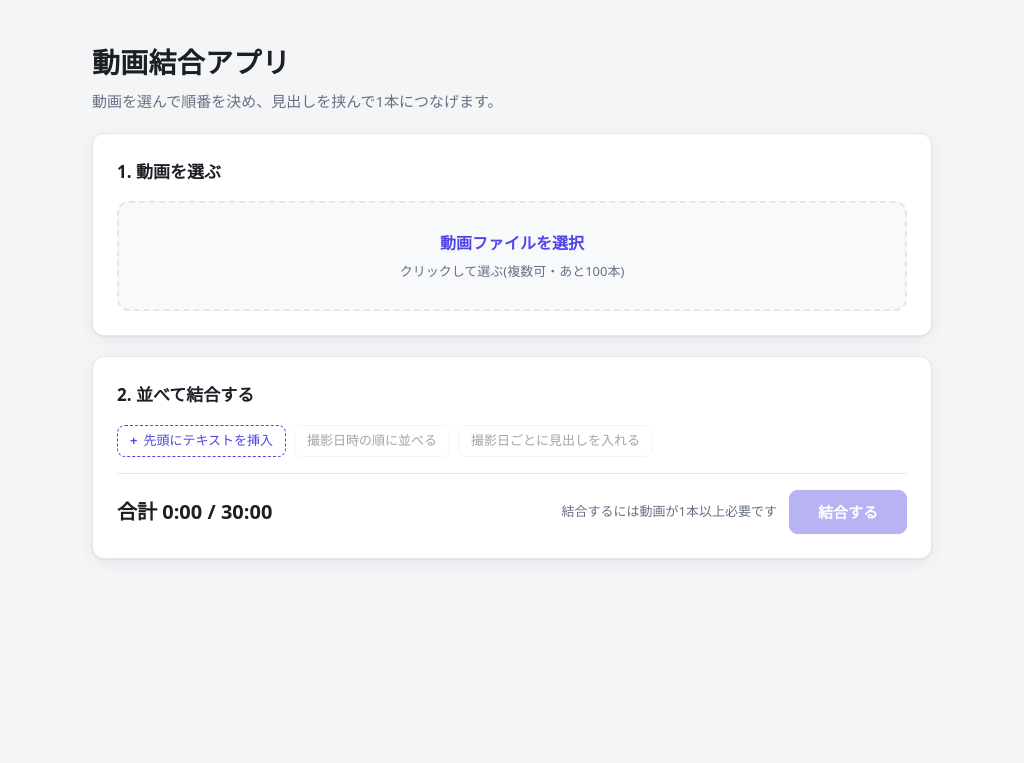
Test: テキストの場面だけ(動画0本)のときは結合ボタンが押せず「結合するには動画が1本以上必要です」と表示される
Click the button "先頭にテキストを挿入" at x=202, y=441, box [117,425,286,457]
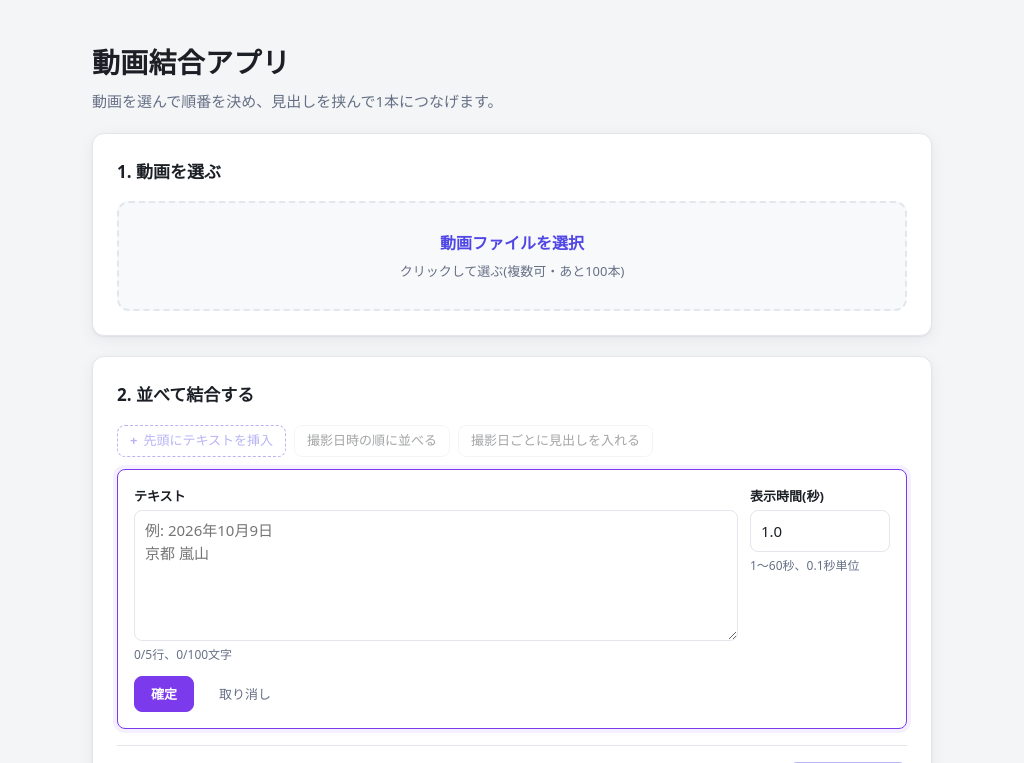
Type "見出し" into the text box labelled "テキスト" at x=436, y=576, box [134,510,738,641]
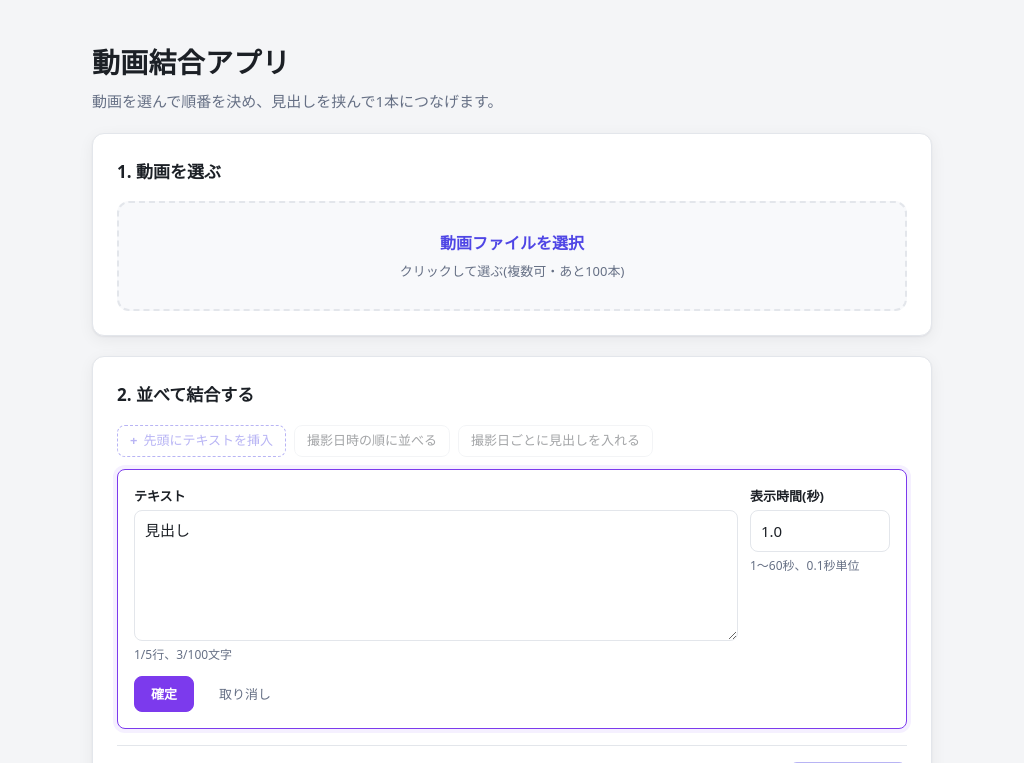
Click the button "確定" at x=164, y=694, box [134,676,194,712]
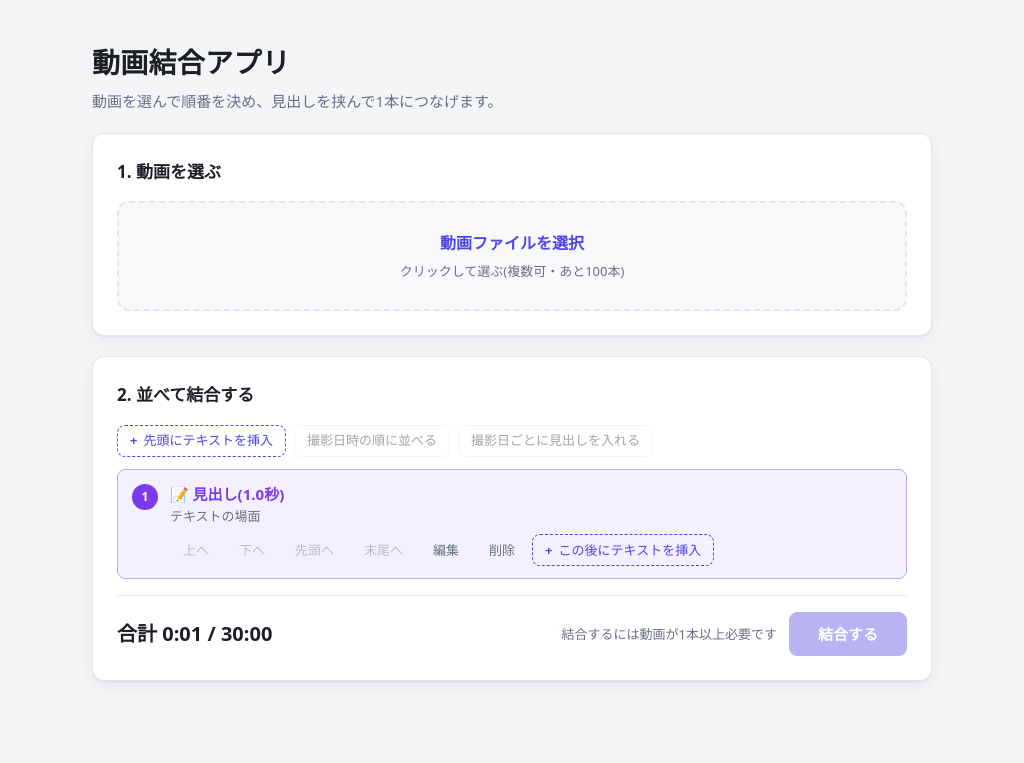
Expected: the button "結合する" is disabled, [789,612,907,656]
Now the text "結合するには動画が1本以上必要です" is shown, box [562,624,777,645]
